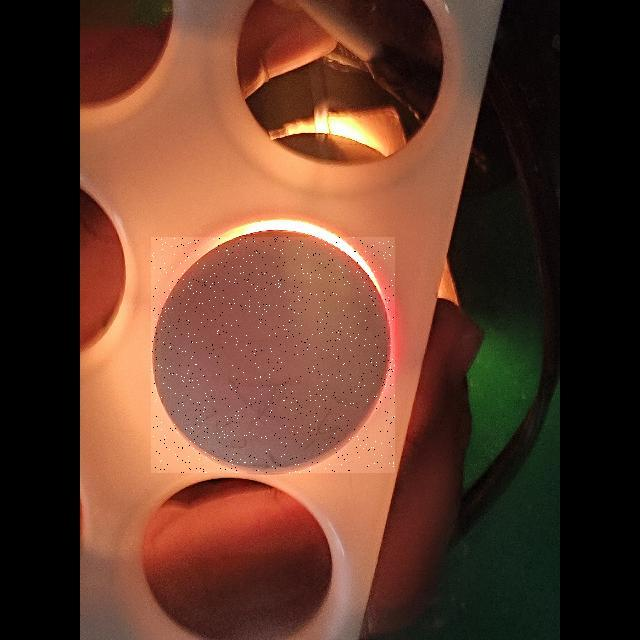B - Fair: (151, 237, 395, 473)
